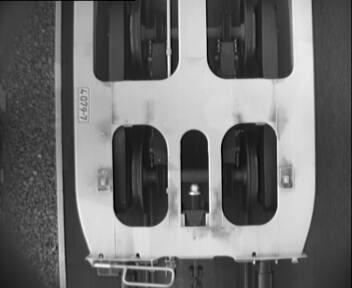Copy of Copy of Copy of Copy of wagon_scan: (106, 118, 283, 233)
